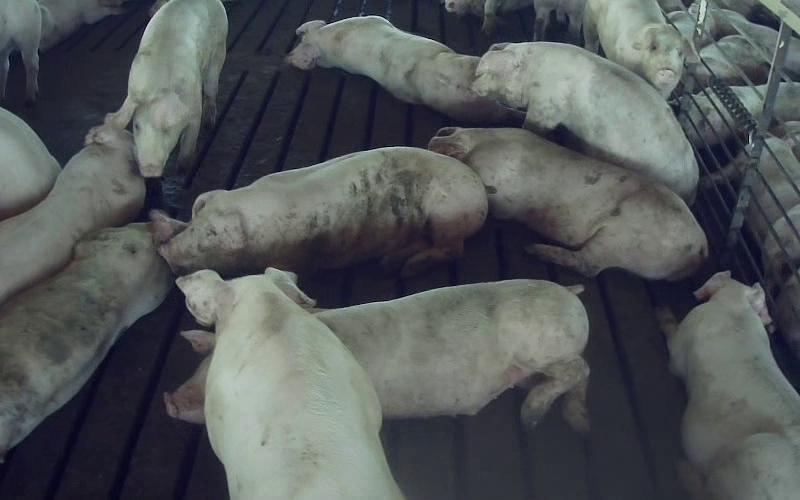pig: (177, 268, 402, 499), (0, 212, 185, 461), (429, 127, 707, 280), (160, 148, 486, 274), (474, 42, 698, 203), (658, 272, 799, 499), (0, 125, 144, 303), (285, 16, 513, 122), (583, 0, 698, 98)
